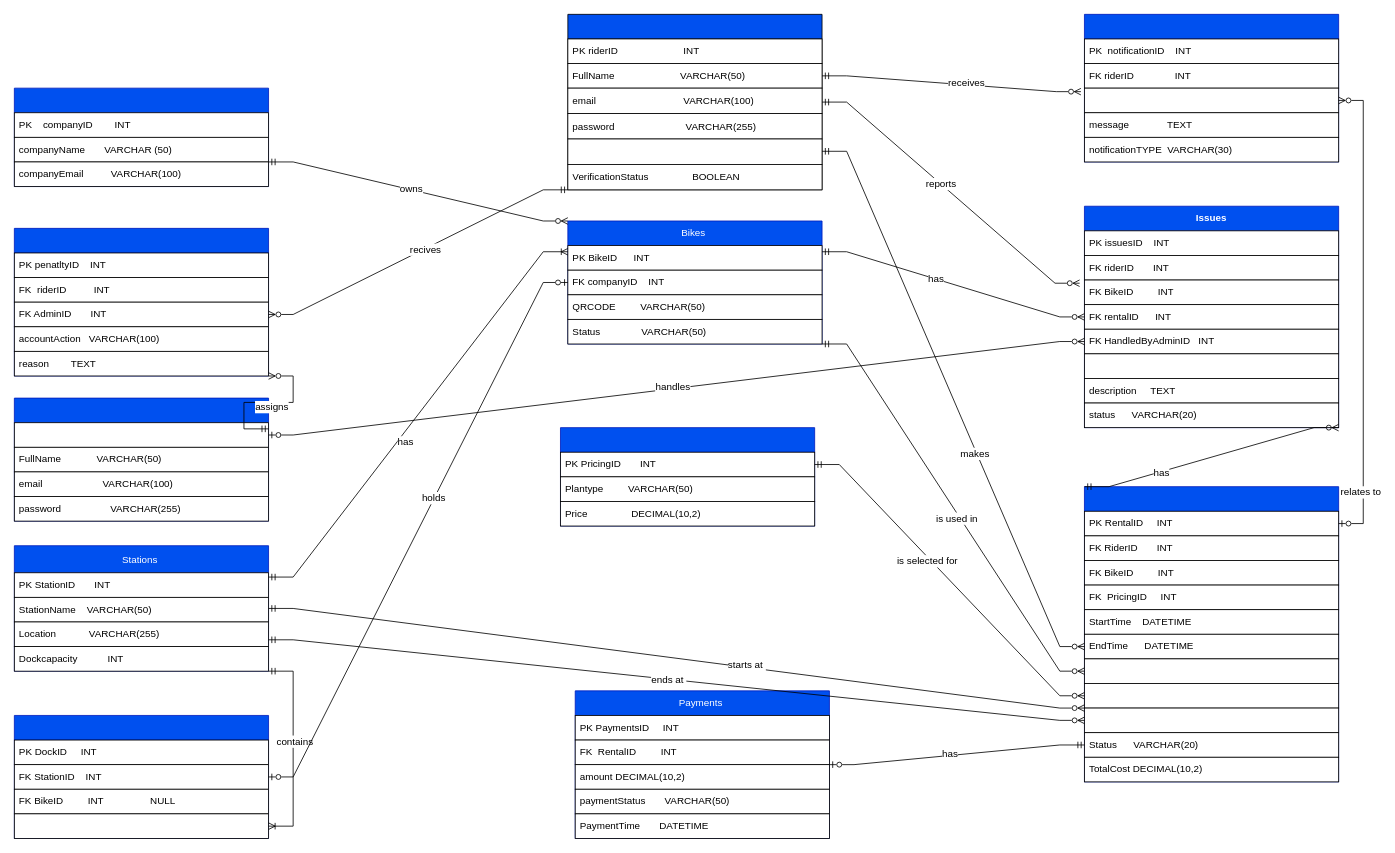
This 1395x853 diagram has some shape labels left out. Here are the shapes that lost their labels. From the top down, the box of each, then its label:
(567, 14, 822, 190): Riders
(1084, 14, 1339, 162): Notifications
(1084, 87, 1339, 113): FK rentalID INT NULL
(14, 87, 269, 187): companies
(567, 138, 822, 164): phonenumber VARCHAR(11)
(14, 228, 269, 376): penalties
(1084, 353, 1339, 378): issueTYPE VARCHAR(50)
(14, 422, 269, 447): Pk AdminID INT
(14, 397, 269, 521): Admins
(560, 427, 815, 526): Pricing Plans
(1084, 486, 1339, 782): Rentals
(1084, 658, 1339, 683): UsageDuration INT
(1084, 683, 1339, 708): FK StartstationID INT
(1084, 707, 1339, 733): FK EndstationID INT
(14, 715, 269, 838): Docks
(14, 813, 269, 838): Status VACHAR(50)
